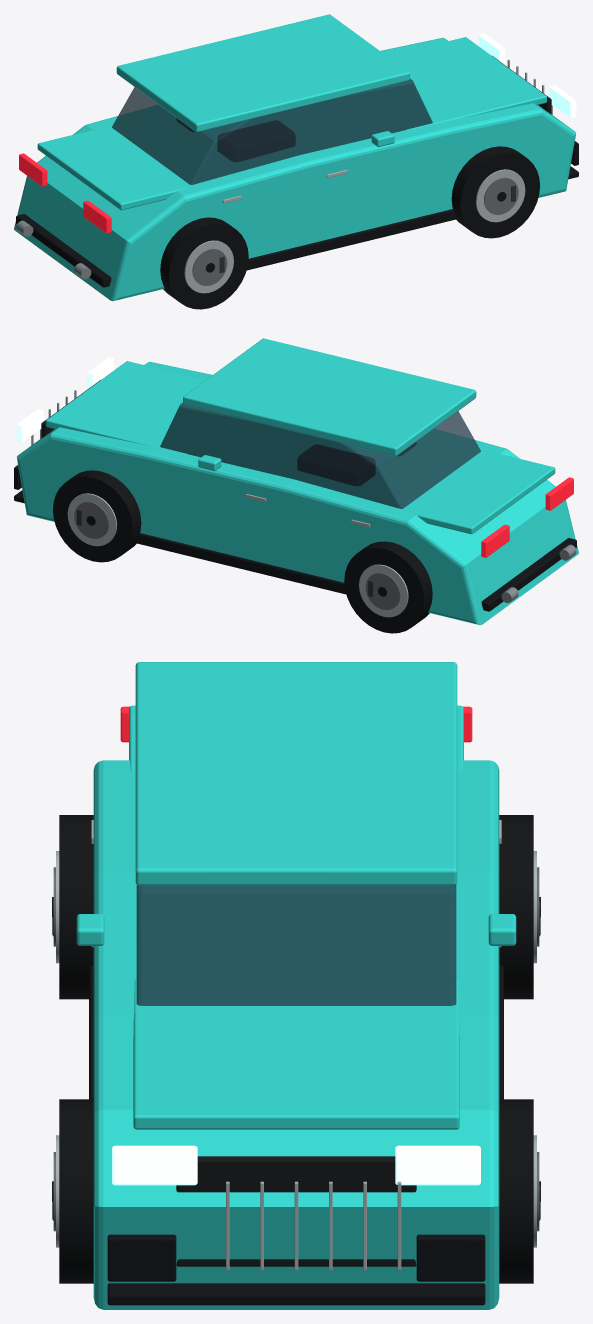
Rendered from ford_edge.glb.
3 renders of one model, top to bottom at view 1: azimuth 30°, elevation 25°; view 2: azimuth 150°, elevation 25°; view 3: azimuth 270°, elevation 25°, orthographic. The views are drawn at different scales.
Visible parts, largest first — view 1: sculpted_body, roof, glasshouse, hood_center, rear_deck, rear_right_wheel_tire, front_right_wheel_tire, side_skirt_1, seat_1, rear_diffuser, rear_right_wheel_rim, front_right_wheel_rim (+6 smaller); view 2: sculpted_body, roof, glasshouse, hood_center, rear_deck, rear_left_wheel_tire, front_left_wheel_tire, side_skirt_-1, seat_-1, rear_diffuser, rear_left_wheel_rim, front_left_wheel_rim (+6 smaller); view 3: sculpted_body, roof, hood_center, glasshouse, front_grille, front_splitter, front_left_wheel_tire, front_right_wheel_tire, rear_left_wheel_tire, rear_right_wheel_tire, headlight_right, headlight_left (+5 smaller).
Part boxes in pixels (x1,y1,x2,y2): sculpted_body: (14,38,576,301); roof: (116,14,409,132); glasshouse: (112,78,432,184); hood_center: (358,37,546,129); rear_deck: (37,126,190,210); rear_right_wheel_tire: (160,217,248,309); front_right_wheel_tire: (451,146,539,238); side_skirt_1: (246,209,457,270); seat_1: (218,121,294,161); rear_diffuser: (16,214,111,287); rear_right_wheel_rim: (184,240,233,293); front_right_wheel_rim: (475,169,525,222); sculpted_body: (16,362,578,625); roof: (183,338,476,456); glasshouse: (160,402,480,508); hood_center: (46,361,234,453); rear_deck: (402,450,555,534); rear_left_wheel_tire: (344,541,432,633); front_left_wheel_tire: (53,470,141,562); side_skirt_-1: (135,533,346,594); seat_-1: (298,445,374,485); rear_diffuser: (481,538,576,611); rear_left_wheel_rim: (359,564,408,617); front_left_wheel_rim: (67,493,117,546); sculpted_body: (93,760,499,1309); roof: (135,662,457,885); hood_center: (133,979,459,1129); glasshouse: (136,885,456,1005); front_grille: (176,1156,416,1266); front_splitter: (107,1283,485,1305); front_left_wheel_tire: (499,1099,533,1283); front_right_wheel_tire: (59,1099,93,1283); rear_left_wheel_tire: (499,815,533,999); rear_right_wheel_tire: (59,815,93,999); headlight_right: (112,1145,197,1185); headlight_left: (395,1145,480,1185).
Bounding box in the file's own units: 5.24 × 1.73 × 2.28.
